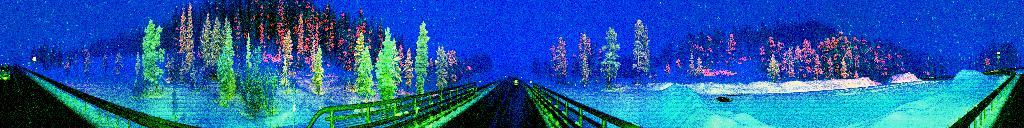pole: (290, 83, 298, 128)
